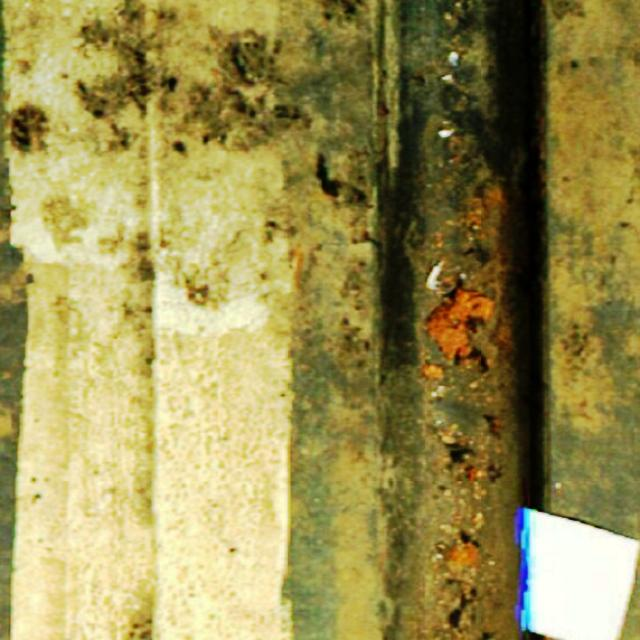Corrosion: (426, 288, 500, 358), (443, 540, 477, 565), (420, 362, 443, 377)
